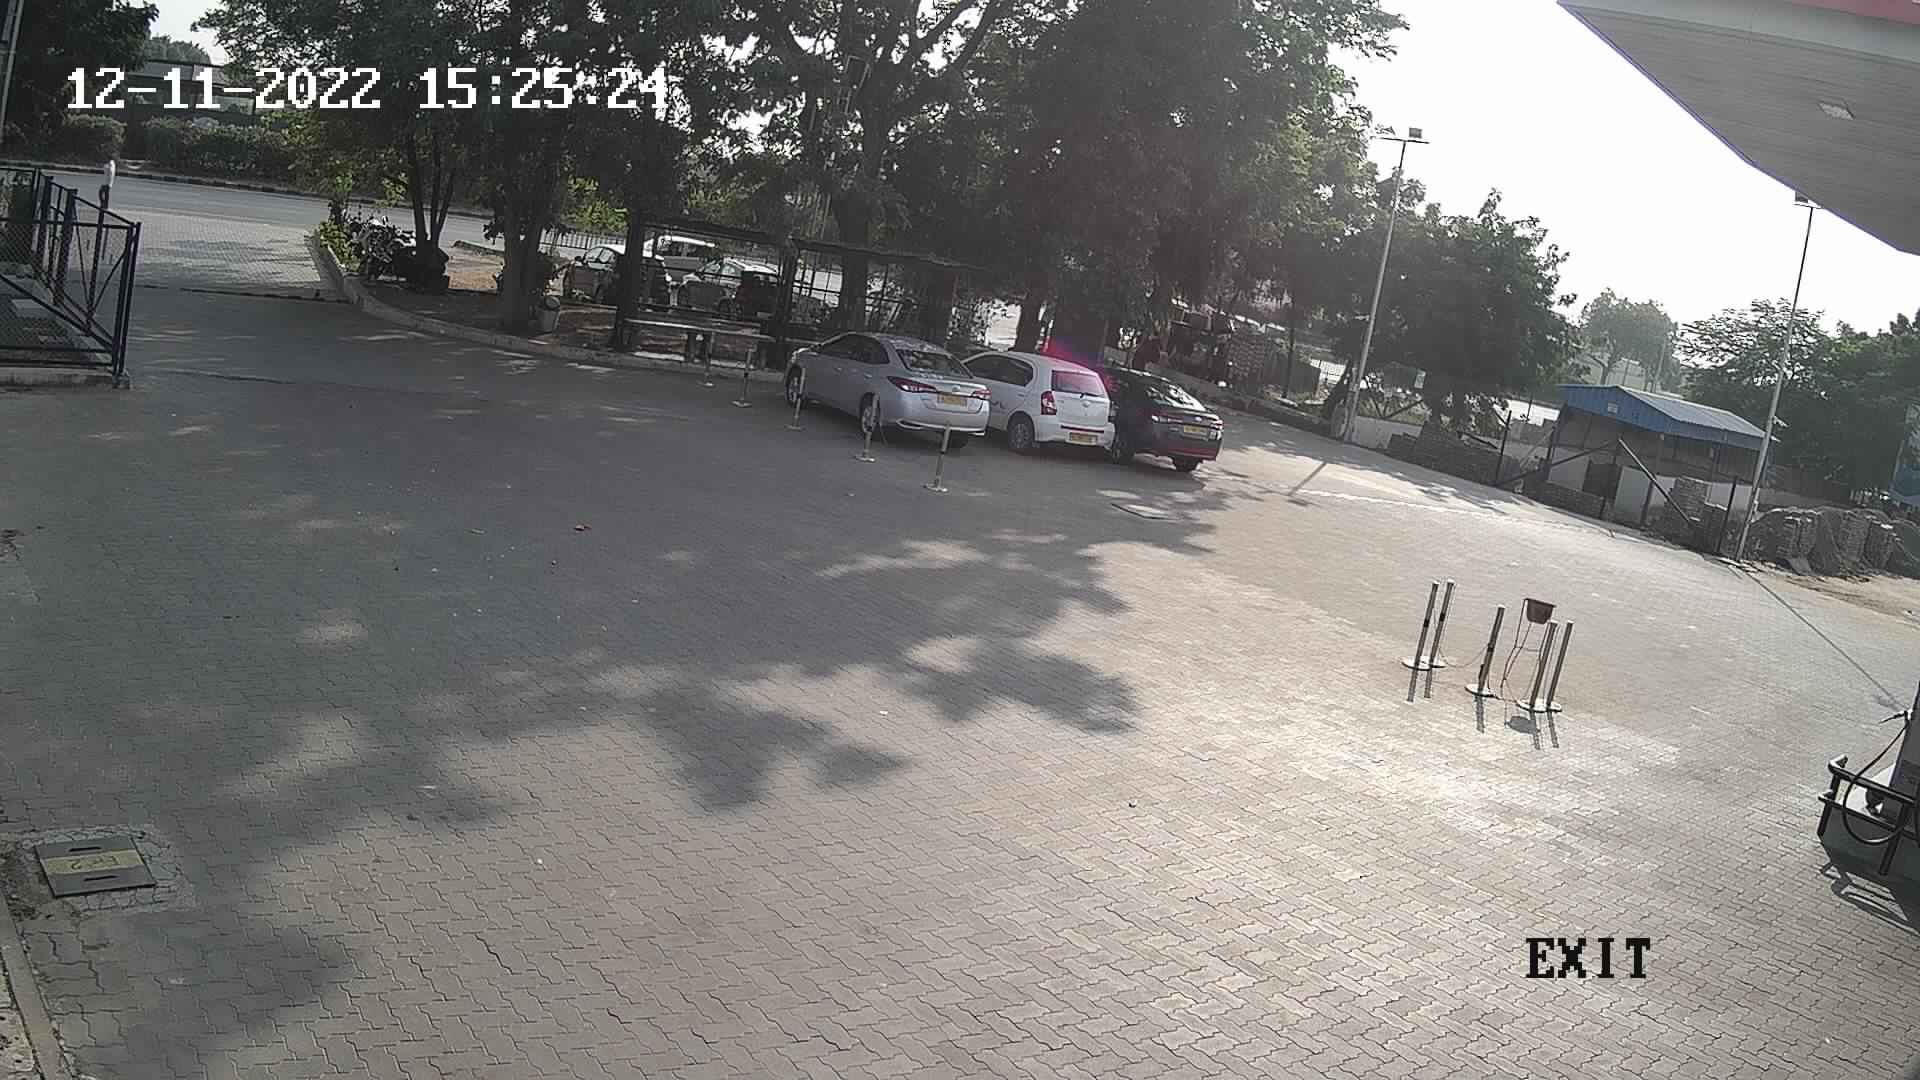Car: (775, 323, 993, 458), (960, 344, 1121, 467), (1093, 353, 1230, 488), (667, 247, 785, 326), (553, 233, 634, 320), (644, 222, 723, 285)
